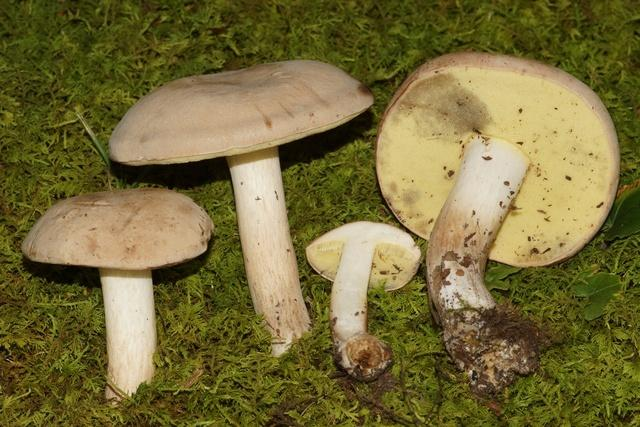edible_mushroom: (374, 49, 621, 399), (107, 57, 374, 357), (20, 186, 214, 407), (304, 219, 421, 382)
